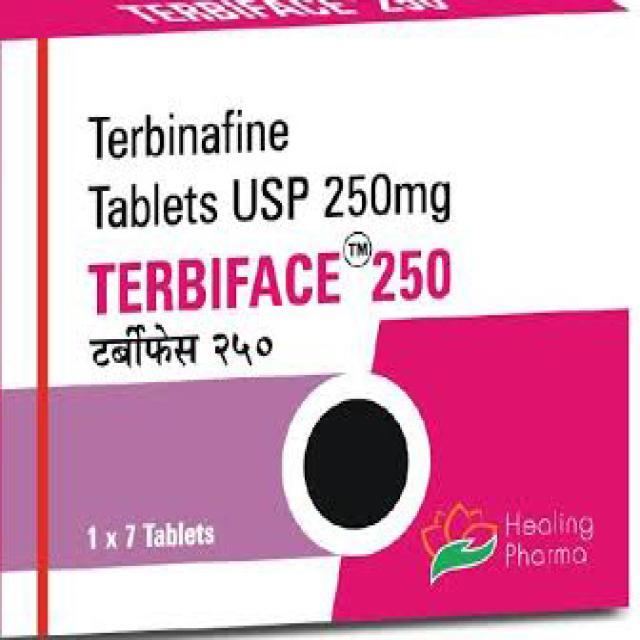drug-name: (79, 244, 462, 312)
